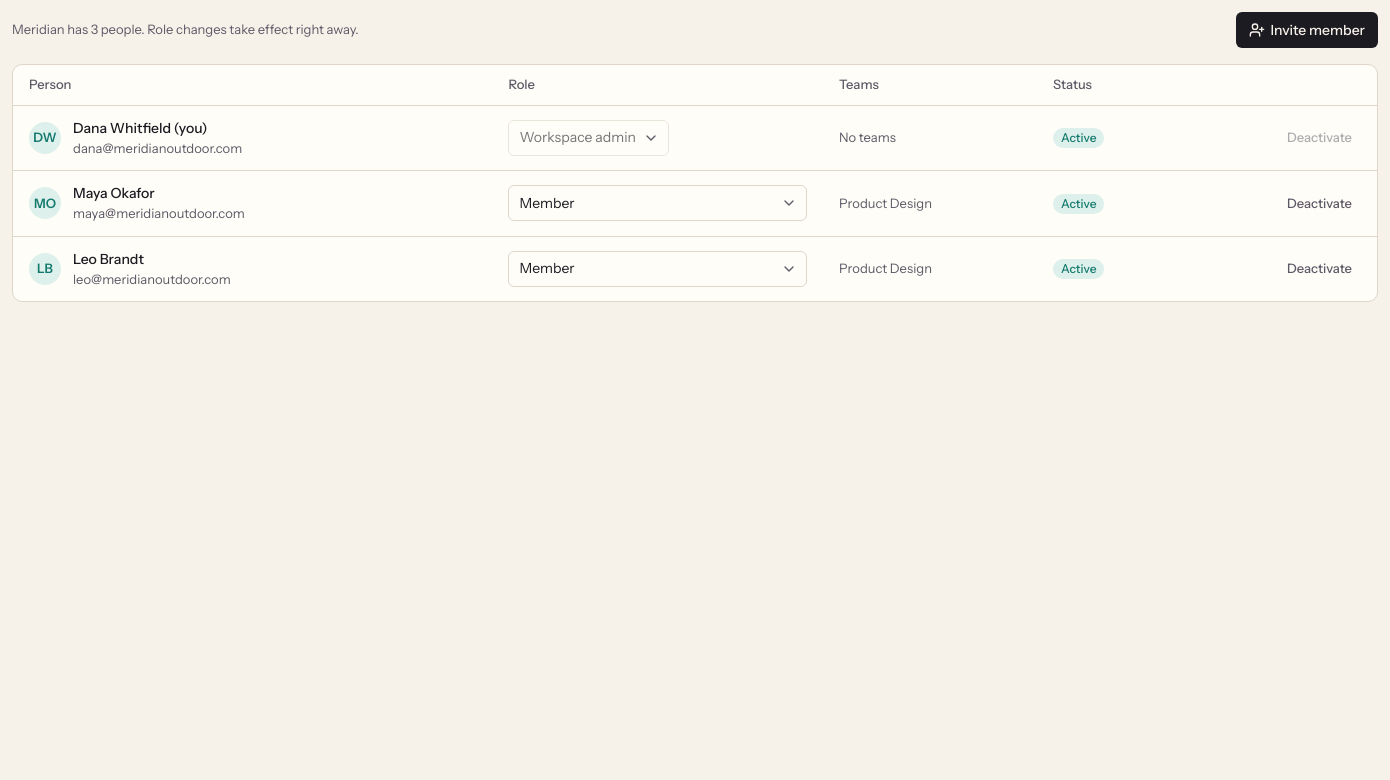
Test: MembersTab › lets an admin change a role
Select "Workspace admin" in the dropdown named "Role for Leo Brandt" at (658, 269), box [508,251,807,287]
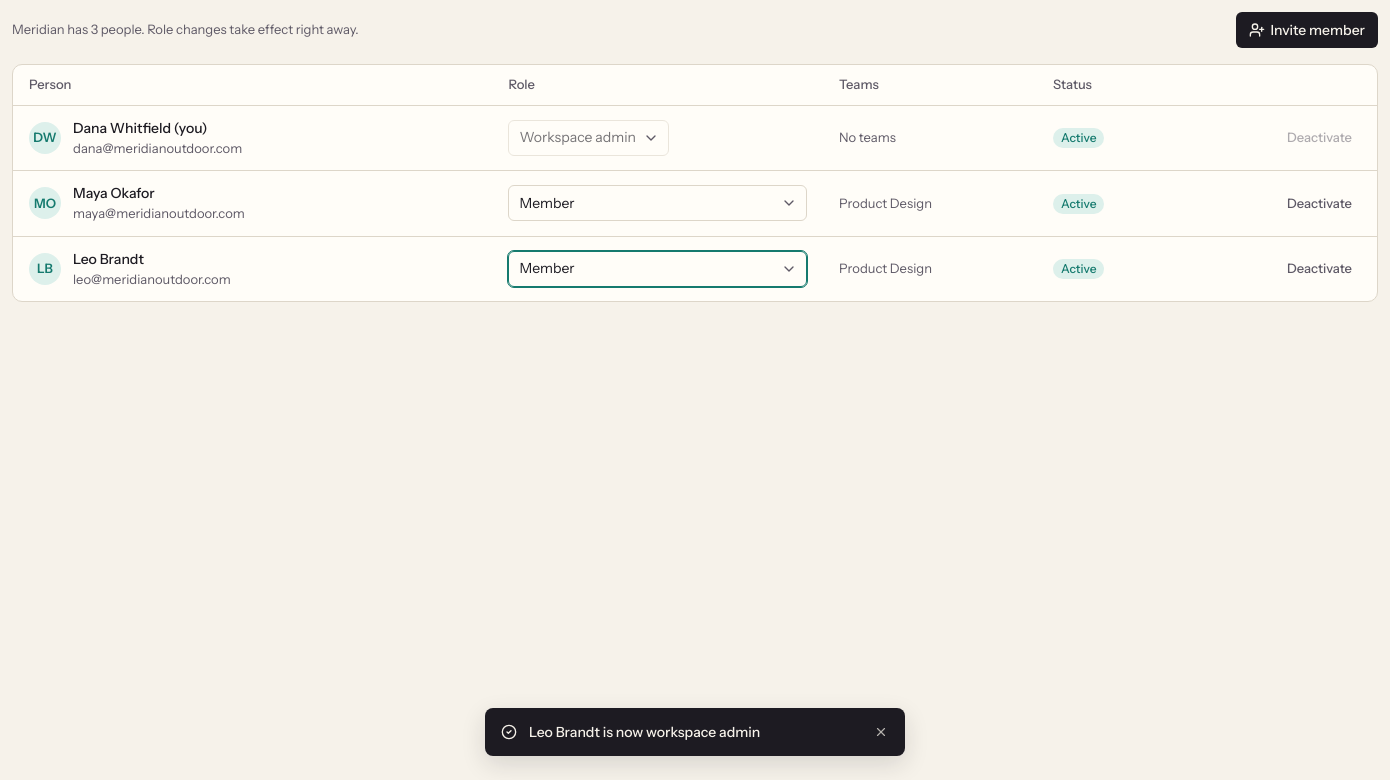
expect the text "Leo Brandt is now workspace admin" is shown: met, box [529,722,760,740]
